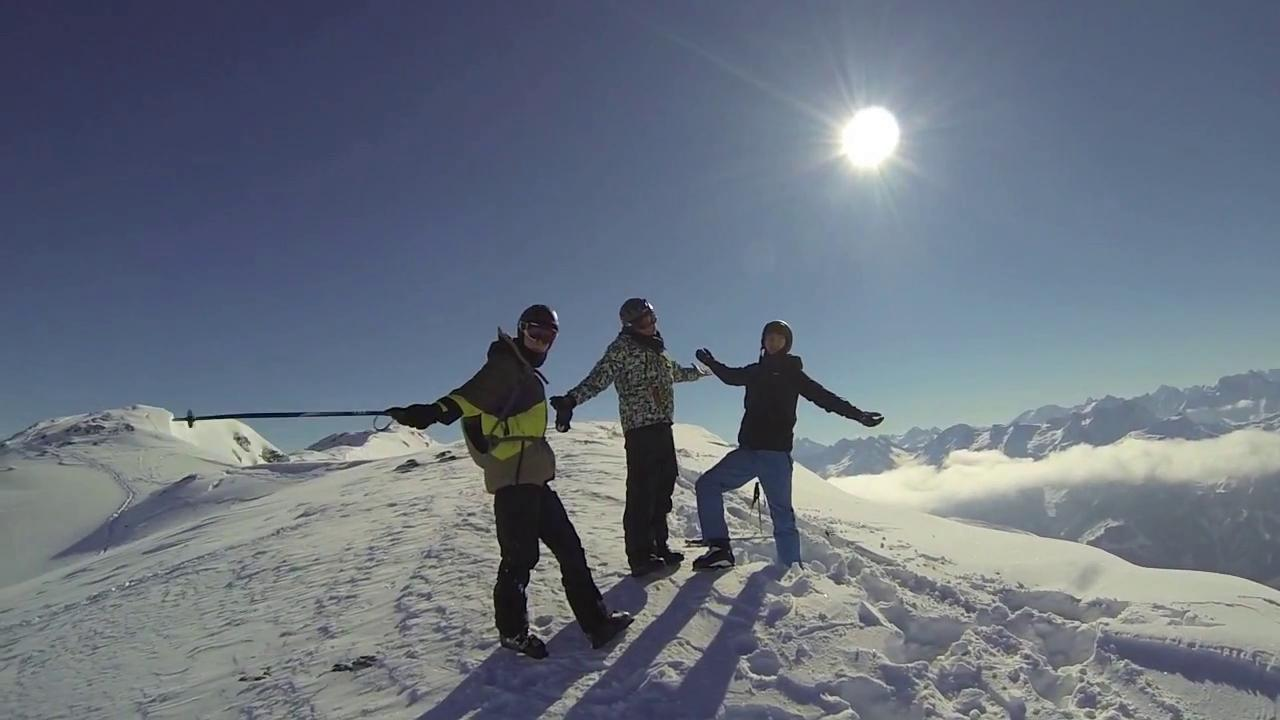victim: (389, 303, 636, 675), (686, 314, 894, 585), (552, 298, 724, 582)
